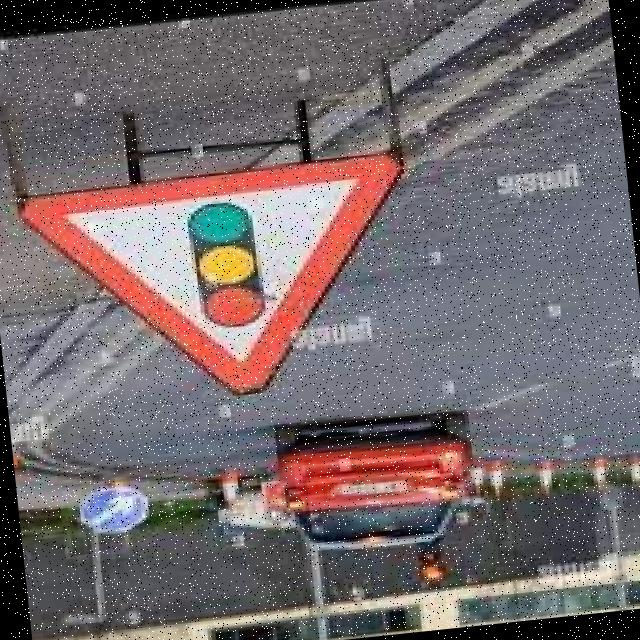light_traffic: (9, 150, 443, 416)
